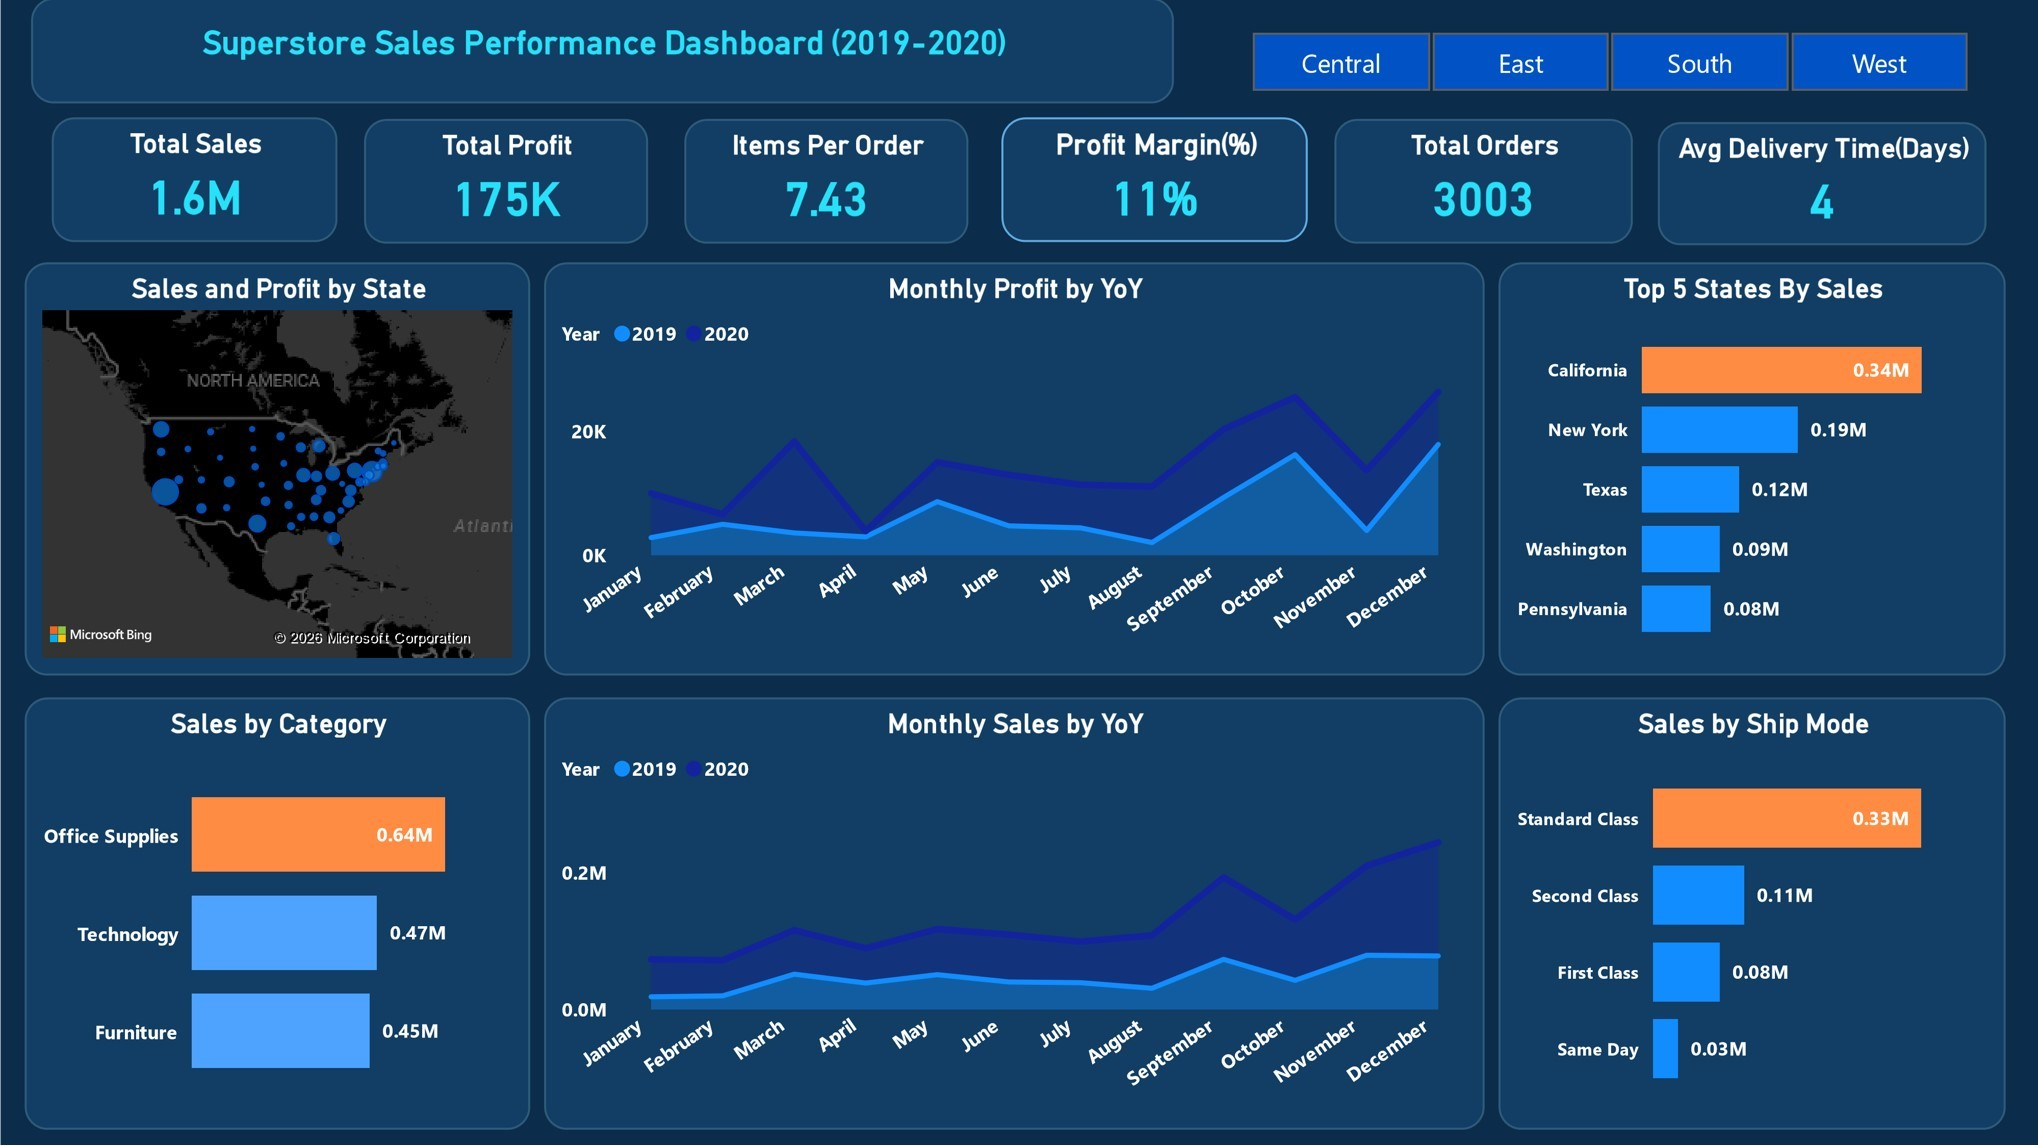

The page's visual inventory and layout, read from the dashboard file:
{"tool":"powerbi","page":{"name":"Page 1","canvas":[1280,720],"ordinal":0},"visuals":[{"type":"clusteredBarChart","title":"Sales by Category","fields":{"Category":["SuperStore_Sales_Dataset.Category"],"Y":["Sum(SuperStore_Sales_Dataset.Sales)"]},"box":[15.3,439.3,317,271.2],"z":0},{"type":"clusteredBarChart","title":"Sales by Ship Mode","fields":{"Y":["Sum(SuperStore_Sales_Dataset.Sales)"],"Category":["SuperStore_Sales_Dataset.Ship Mode"]},"box":[939.6,439.3,318.3,271.2],"z":1000},{"type":"stackedAreaChart","title":"Monthly Sales by YoY","fields":{"Y":["Sum(SuperStore_Sales_Dataset.Sales)"],"Category":["SuperStore_Sales_Dataset.Order Date.Variation.Date Hierarchy.Month","SuperStore_Sales_Dataset.Order Date.Variation.Date Hierarchy.Day"],"Series":["SuperStore_Sales_Dataset.Order Date.Variation.Date Hierarchy.Year"]},"box":[341.2,439.3,589.5,271.2],"z":2000},{"type":"stackedAreaChart","title":"Monthly Profit by YoY","fields":{"Category":["SuperStore_Sales_Dataset.Order Date.Variation.Date Hierarchy.Month","SuperStore_Sales_Dataset.Order Date.Variation.Date Hierarchy.Day"],"Series":["SuperStore_Sales_Dataset.Order Date.Variation.Date Hierarchy.Year"],"Y":["Sum(SuperStore_Sales_Dataset.Profit)"]},"box":[341.2,165.5,589.5,259.7],"z":3000},{"type":"map","title":"Sales and Profit by State","fields":{"Category":["SuperStore_Sales_Dataset.State"],"Size":["Sum(SuperStore_Sales_Dataset.Sales)"]},"box":[15.3,165.5,317,259.7],"z":4000},{"type":"slicer","fields":{"Values":["SuperStore_Sales_Dataset.Region"]},"box":[760.1,14,497.8,52.2],"z":5000},{"type":"card","title":"Total Sales","fields":{"Values":["Sum(SuperStore_Sales_Dataset.Sales)"]},"box":[31.8,75.1,179.5,77.7],"z":6000},{"type":"card","title":"Total Profit","fields":{"Values":["Sum(SuperStore_Sales_Dataset.Profit)"]},"box":[227.9,76.4,178.3,77.7],"z":7000},{"type":"card","title":"Items Per Order","fields":{"Values":["SuperStore_Sales_Dataset.avgitemperorder"]},"box":[429.1,76.4,178.3,77.7],"z":8000},{"type":"textbox","title":"Superstore Sales Performance Dashboard (2019-2020)","box":[19.1,0,716.8,66.2],"z":9000},{"type":"card","title":"Avg Delivery Time(Days)","fields":{"Values":["Avg(SuperStore_Sales_Dataset.Avgdelivery)"]},"box":[1040.2,77.7,206.3,77.7],"z":10000},{"type":"card","title":"Profit Margin(%)","fields":{"Values":["SuperStore_Sales_Dataset.profit%"]},"box":[627.7,75.1,192.3,77.7],"z":11000},{"type":"card","title":"Total Orders","fields":{"Values":["SuperStore_Sales_Dataset.totalorders"]},"box":[836.5,76.4,187.2,77.7],"z":12000},{"type":"clusteredBarChart","title":"Top 5 States By Sales ","fields":{"Category":["SuperStore_Sales_Dataset.State"],"Y":["Sum(SuperStore_Sales_Dataset.Sales)"]},"box":[939.6,165.5,318.3,259.7],"z":13000}]}

Visuals, with their boxes in screenshot pixels (x1, y1, x2, y2), scaled from the page's 1280x720 canvas onto the 2038x1146 screenshot:
"Sales by Category" clusteredBarChart: l=24, t=699, r=529, b=1131
"Sales by Ship Mode" clusteredBarChart: l=1496, t=699, r=2003, b=1131
"Monthly Sales by YoY" stackedAreaChart: l=543, t=699, r=1482, b=1131
"Monthly Profit by YoY" stackedAreaChart: l=543, t=263, r=1482, b=677
"Sales and Profit by State" map: l=24, t=263, r=529, b=677
slicer - SuperStore_Sales_Dataset.Region: l=1210, t=22, r=2003, b=105
"Total Sales" card: l=51, t=120, r=336, b=243
"Total Profit" card: l=363, t=122, r=647, b=245
"Items Per Order" card: l=683, t=122, r=967, b=245
"Superstore Sales Performance Dashboard (2019-2020)" textbox: l=30, t=0, r=1172, b=105
"Avg Delivery Time(Days)" card: l=1656, t=124, r=1985, b=247
"Profit Margin(%)" card: l=999, t=120, r=1306, b=243
"Total Orders" card: l=1332, t=122, r=1630, b=245
"Top 5 States By Sales " clusteredBarChart: l=1496, t=263, r=2003, b=677
